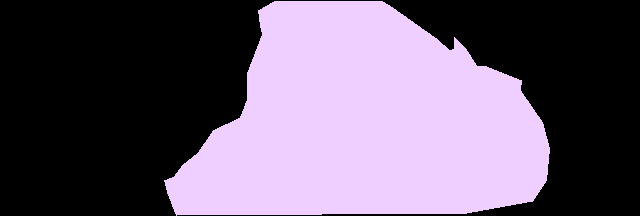Train: (164, 1, 550, 215)
